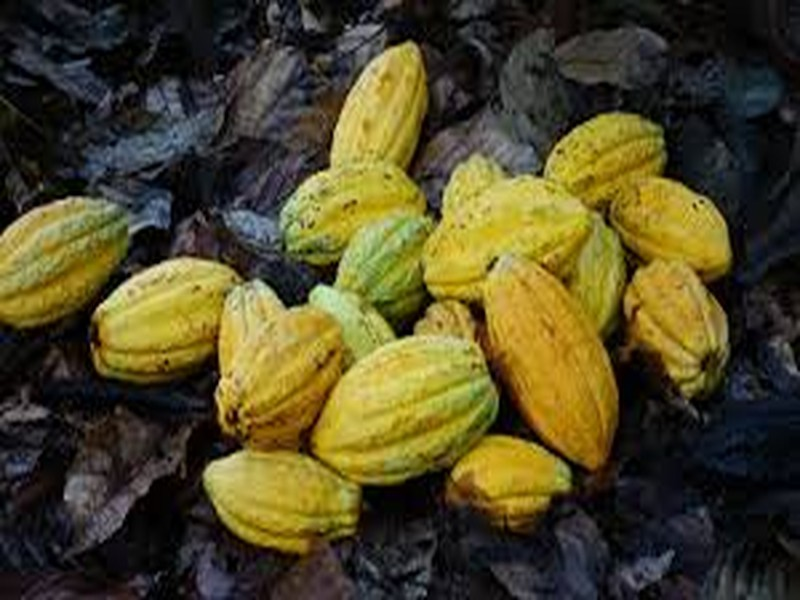Cacaopod: (485, 253, 619, 470)
